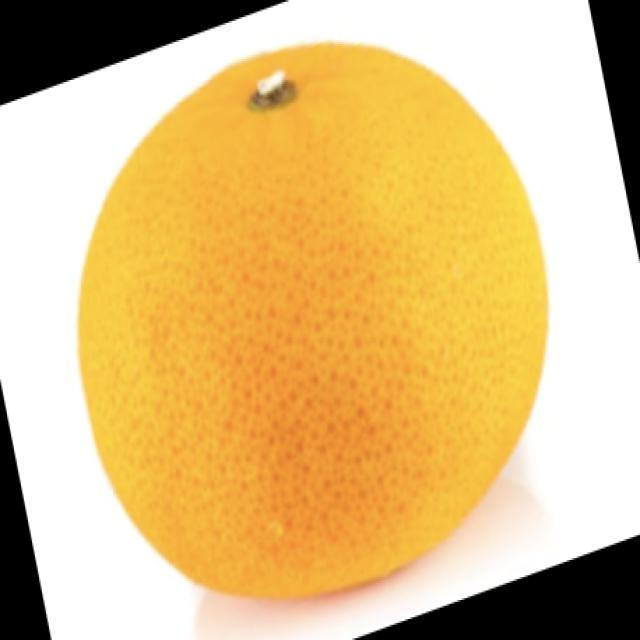Orange: (75, 39, 549, 601)
